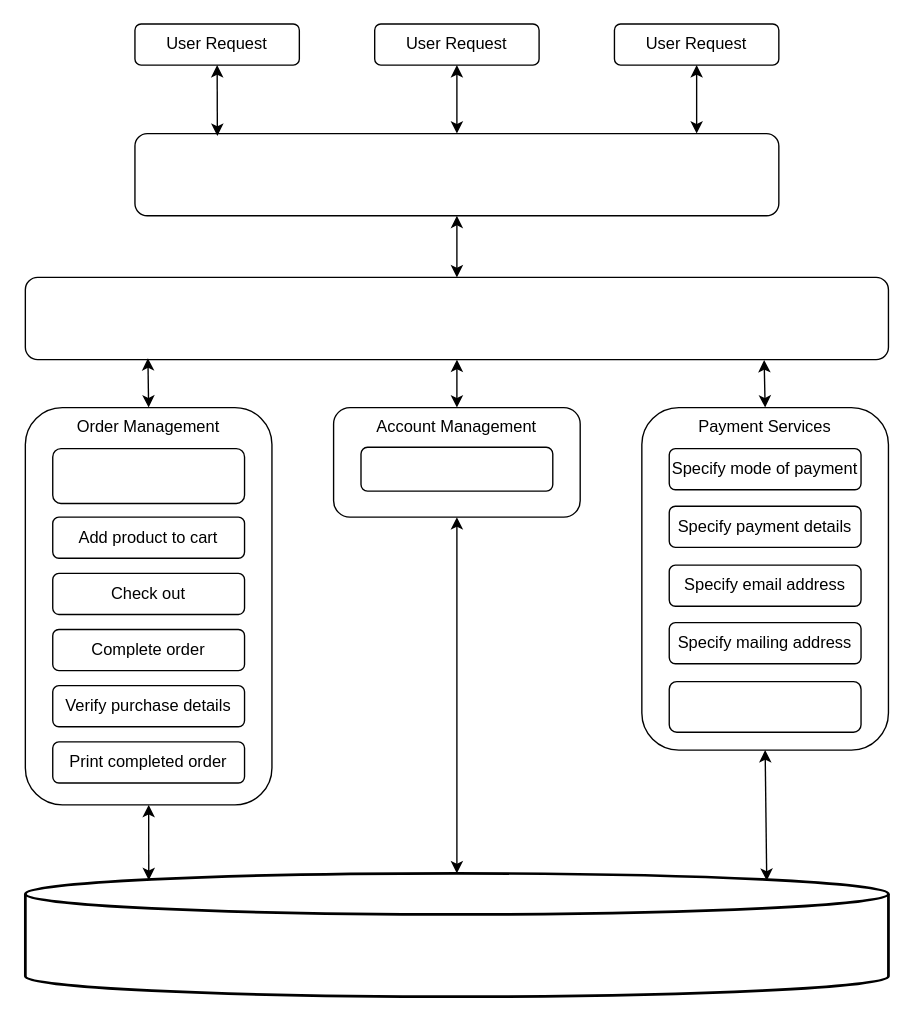
The diagram is 912 pixels wide and 1022 high, and some of its shapes have lost their labels. The shapes that lost their labels are listed below. From the top down, each one's centre as x and y in pixels, then its label:
the point at 456,174: User Interface Layer
the point at 456,318: Enterprise Service Bus
the point at 148,475: Search online product catalogue
the point at 456,468: Create new account
the point at 764,706: Complete card transaction
the point at 456,934: Database
